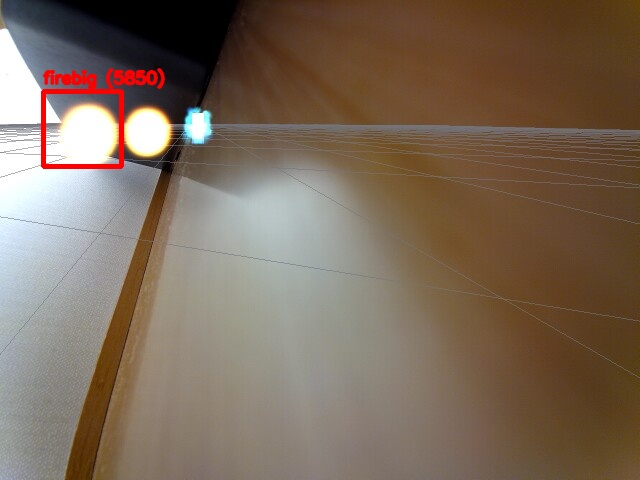firebig: (43, 91, 121, 166)
